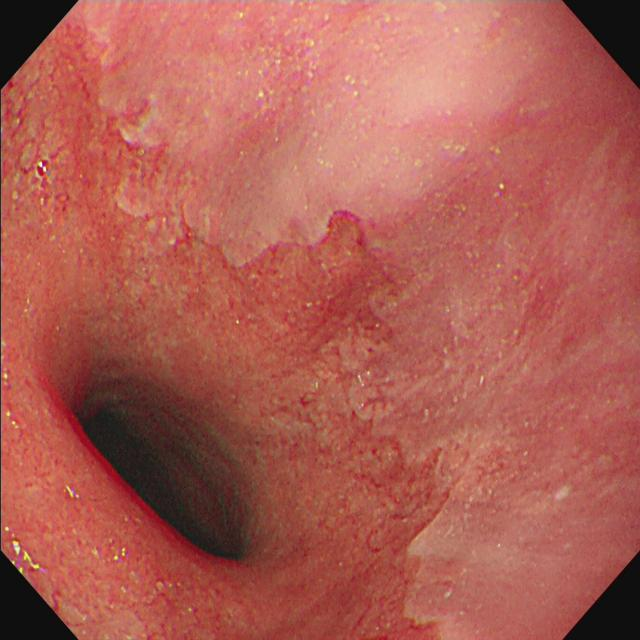D: (172, 192, 396, 333), (297, 374, 457, 570), (2, 24, 161, 219)
E: (62, 368, 260, 572)
U: (4, 528, 38, 579)
